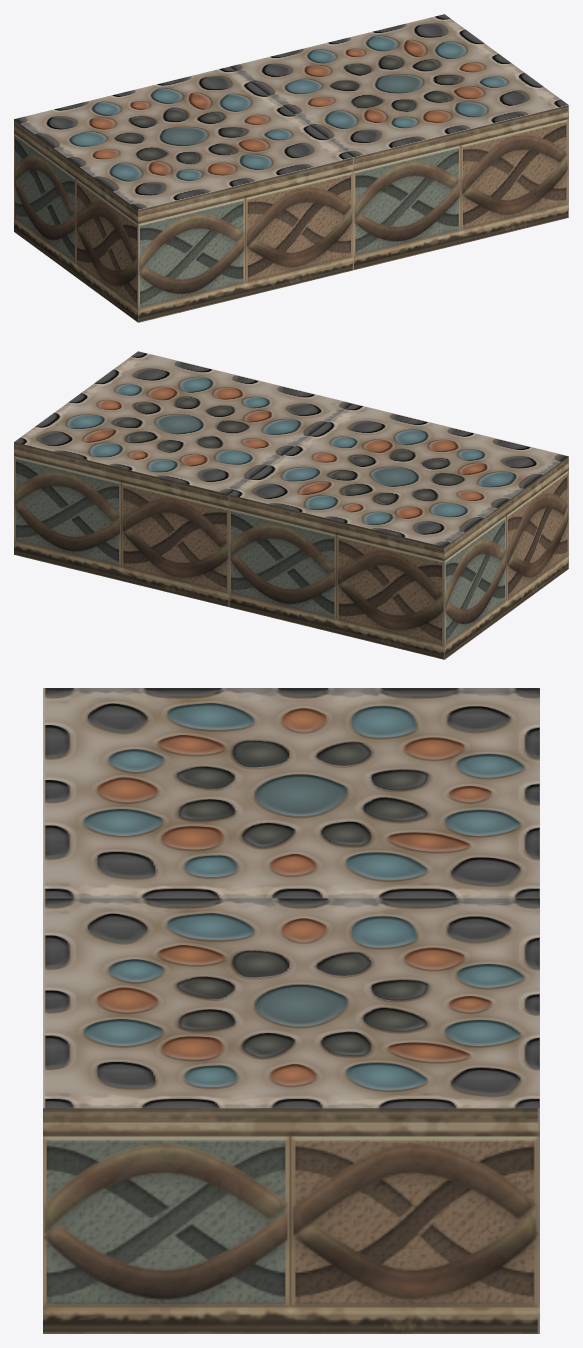
Rendered from DI_009_pattern_block.glb.
3 renders of one model, top to bottom at view 1: azimuth 30°, elevation 25°; view 2: azimuth 150°, elevation 25°; view 3: azimuth 270°, elevation 25°, orthographic. The views are drawn at different scales.
Visible parts, largest first — view 1: Block.008, Block.009; view 2: Block.008, Block.009; view 3: Block.009, Block.008.
Part boxes in pixels (box(x1,y1,x2,y2)): Block.008: box(14, 66, 353, 322); Block.009: box(230, 14, 568, 269); Block.008: box(229, 403, 568, 659); Block.009: box(14, 351, 352, 606); Block.009: box(43, 898, 539, 1333); Block.008: box(43, 688, 539, 898).
Bounding box in the file's own units: 1.5 × 0.375 × 0.75.
1 material, 1 textured.
